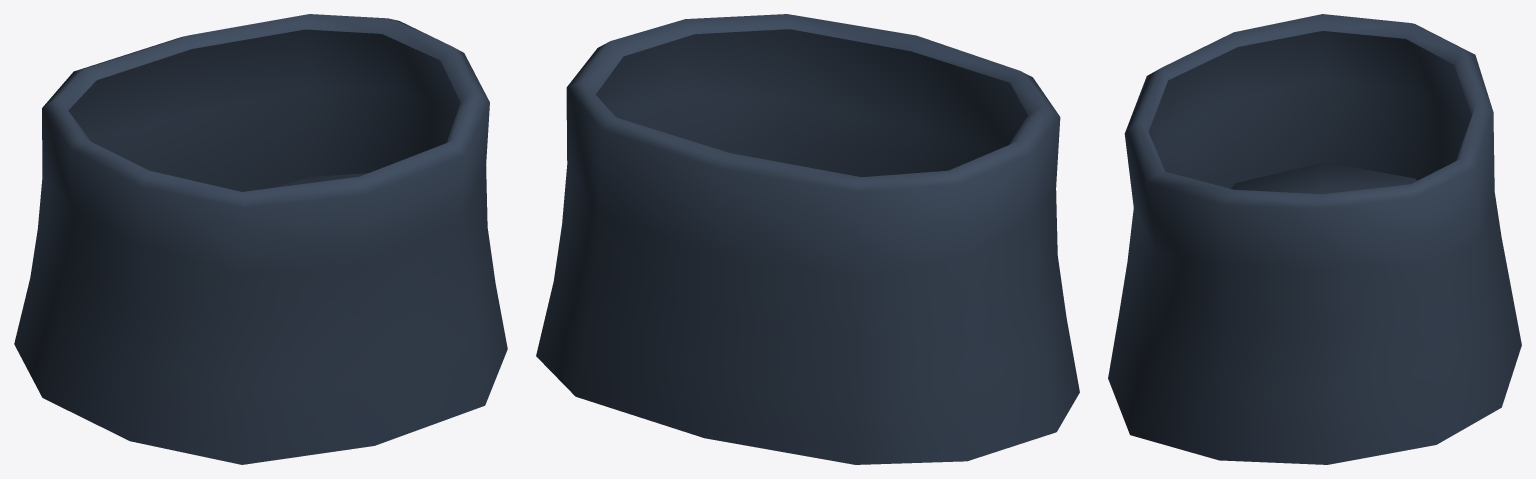
File: Bottom_43.fbx
3 renders of one model, left to right at view 1: azimuth 30°, elevation 25°; view 2: azimuth 150°, elevation 25°; view 3: azimuth 270°, elevation 25°, orthographic. The views are drawn at different scales.
Visible parts, largest first — view 1: Bottom_43; view 2: Bottom_43; view 3: Bottom_43.
Part boxes in pixels (x1,y1,x2,y2): Bottom_43: (14, 14, 507, 464); Bottom_43: (536, 14, 1079, 464); Bottom_43: (1108, 14, 1521, 464).
Size of the model in its own units: 43.31 by 25.69 by 35.06.
